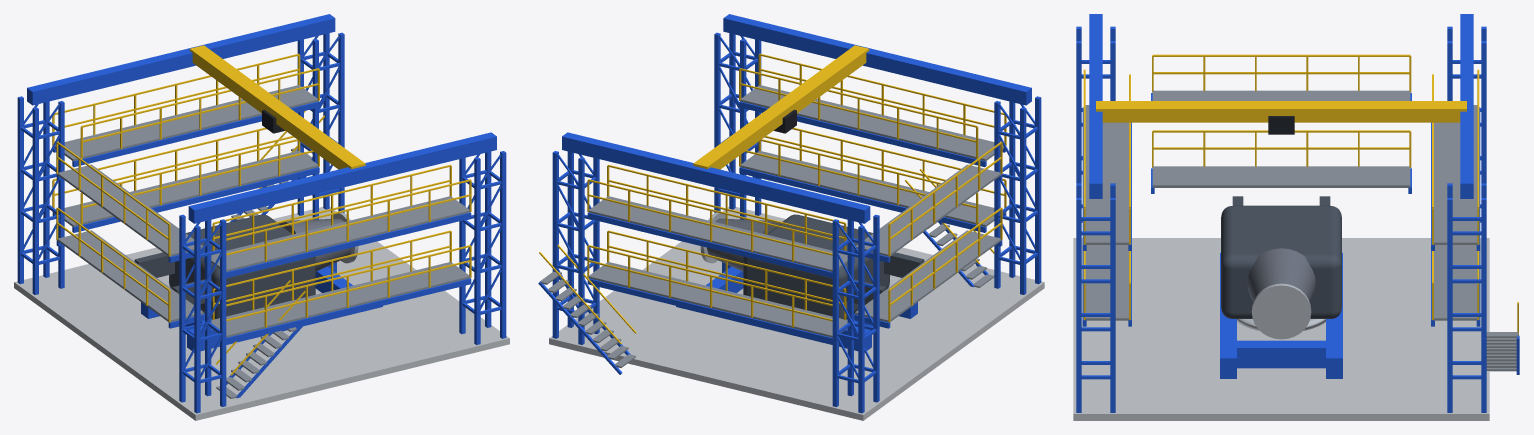
3 views of the same model, side by side, from view 1: azimuth 30°, elevation 25°; view 2: azimuth 150°, elevation 25°; view 3: azimuth 270°, elevation 25° (orthographic). The views are drawn at different scales.
Size of the model in its own units: 11 by 6.93 by 11.79.
